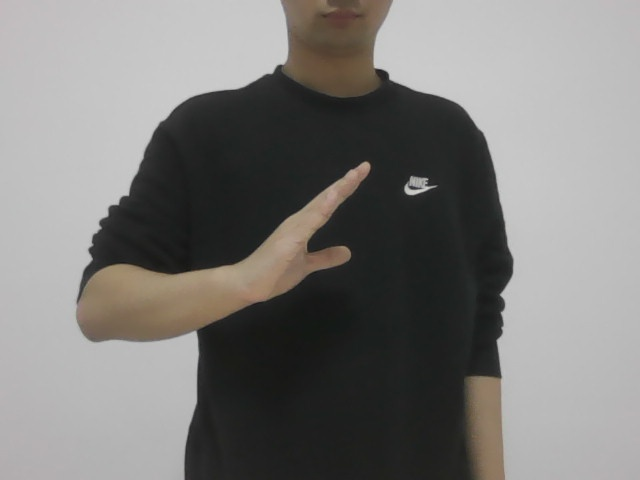morning: (232, 150, 376, 312)
